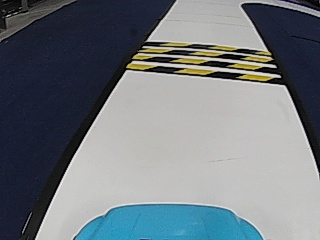bump: (144, 42, 263, 84)
